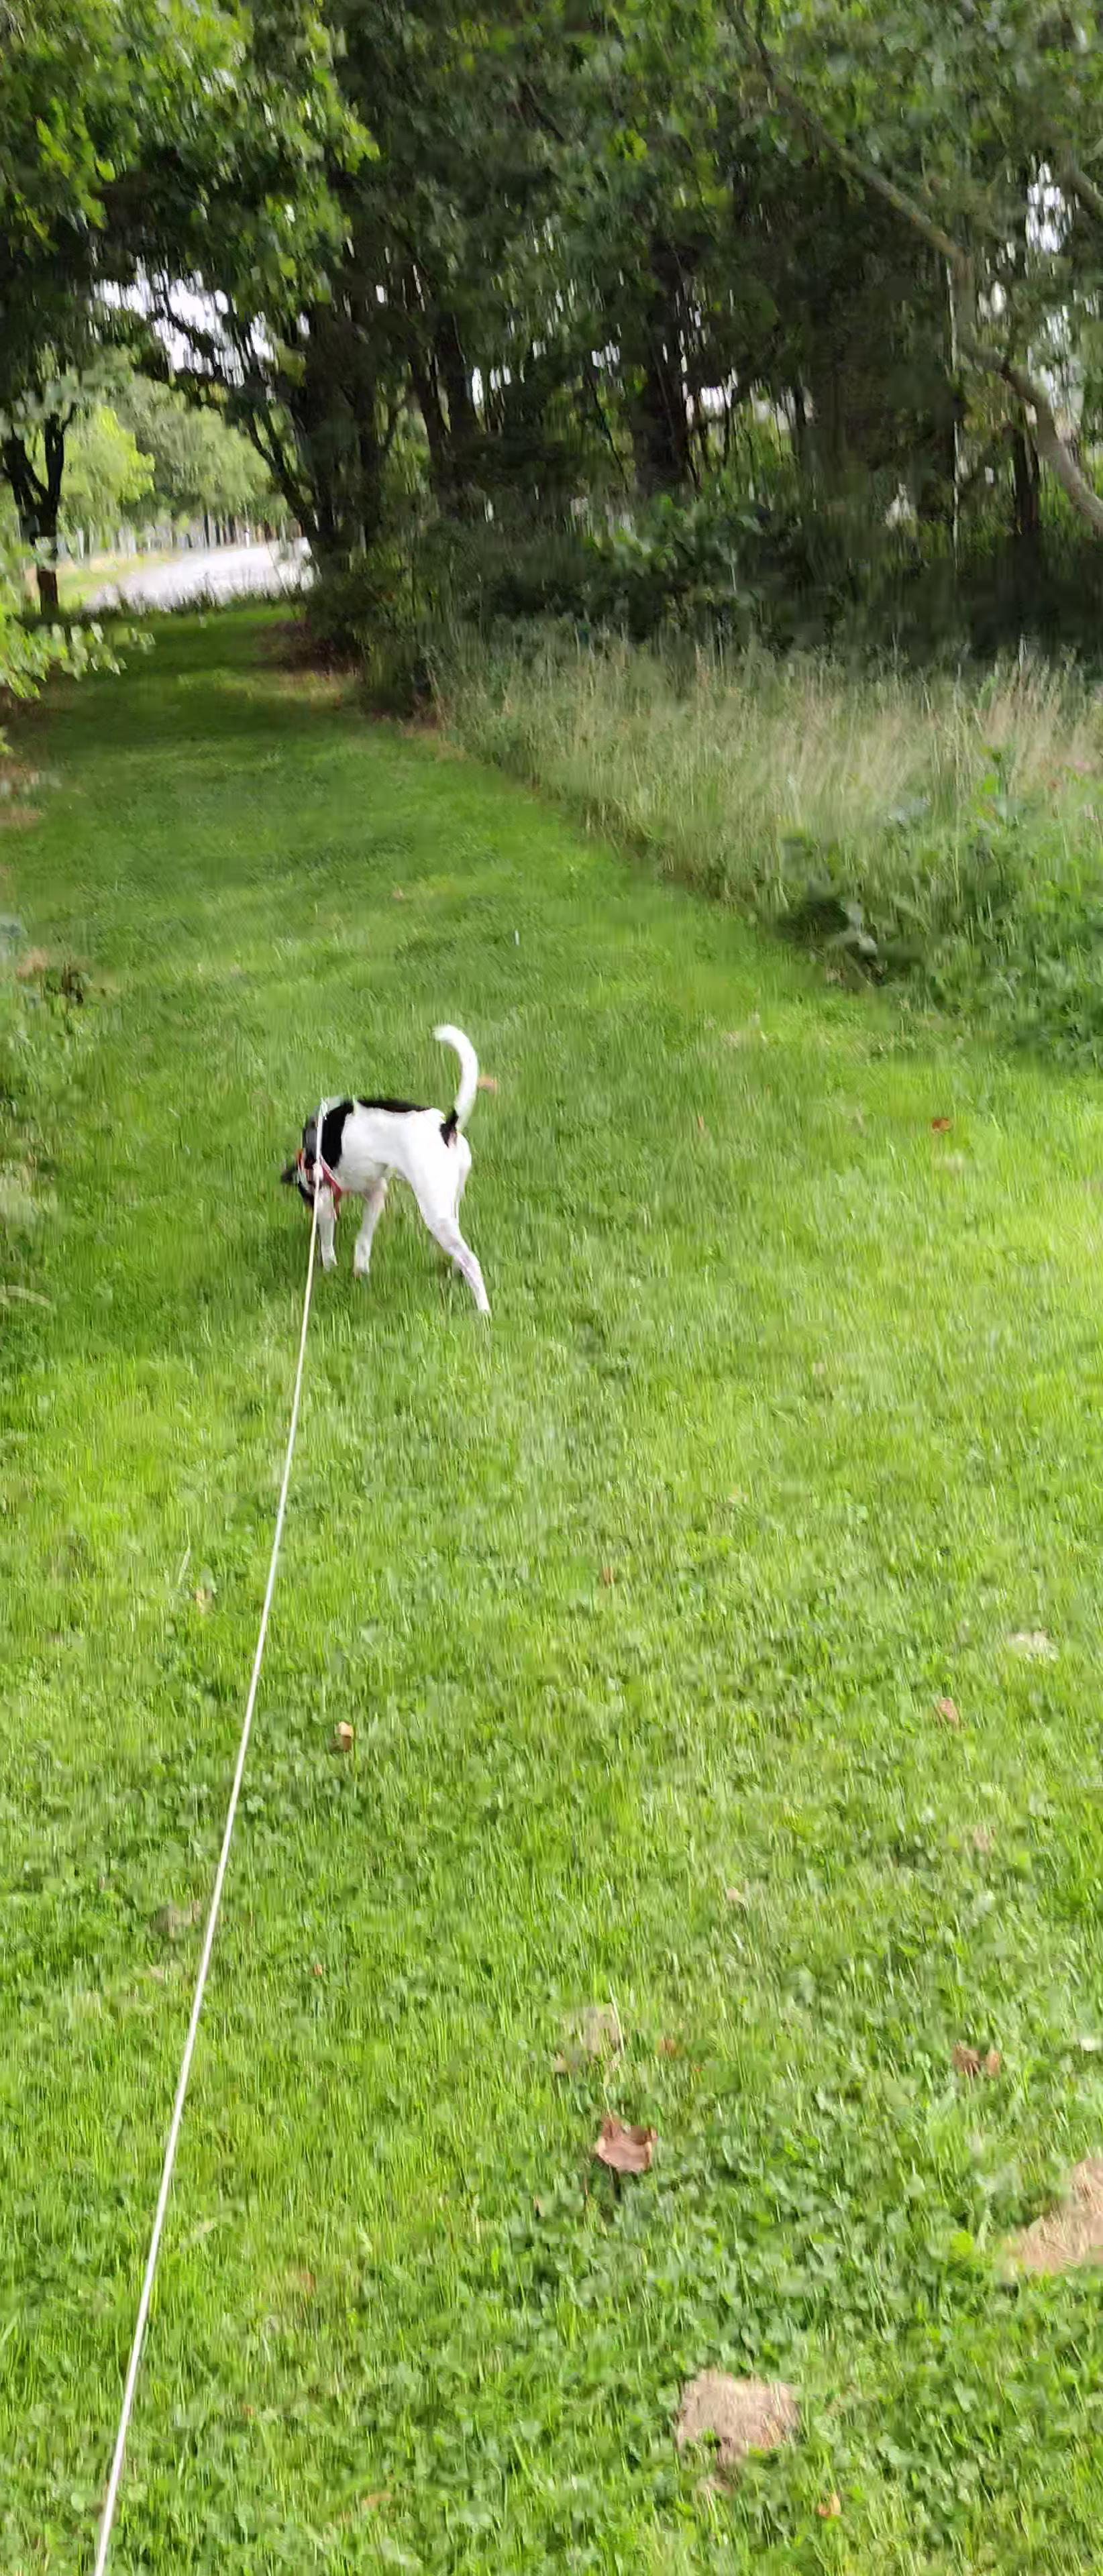Dog: (275, 1022, 500, 1318)
